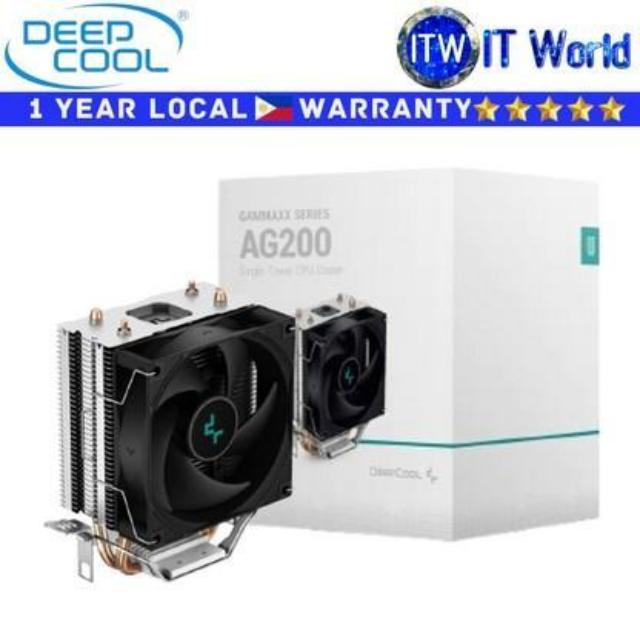CPU_Fan: (36, 278, 304, 584)
